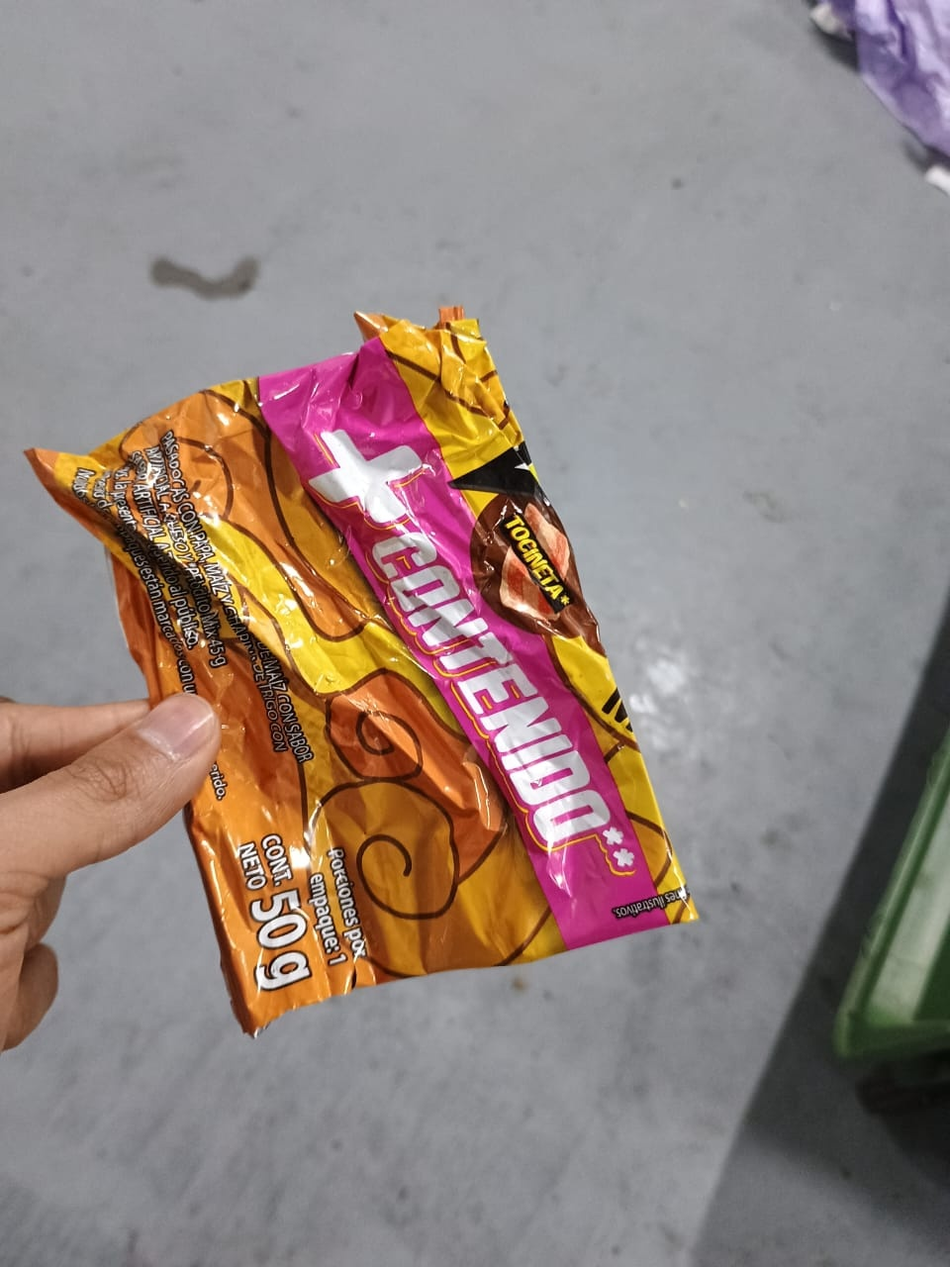Ordinario: (19, 302, 703, 1041)
